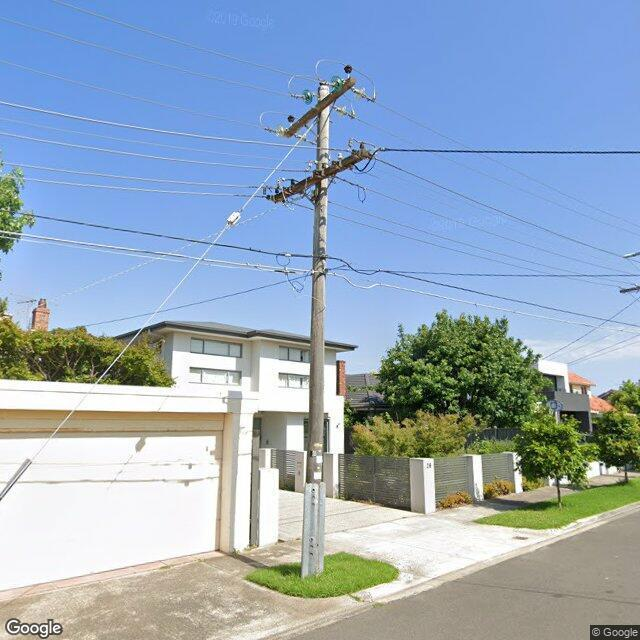HV-transmission: (260, 58, 376, 142)
crossarm: (272, 149, 370, 203), (284, 77, 356, 138), (620, 285, 640, 293), (623, 251, 640, 258)
timber-pole: (301, 85, 329, 578)
